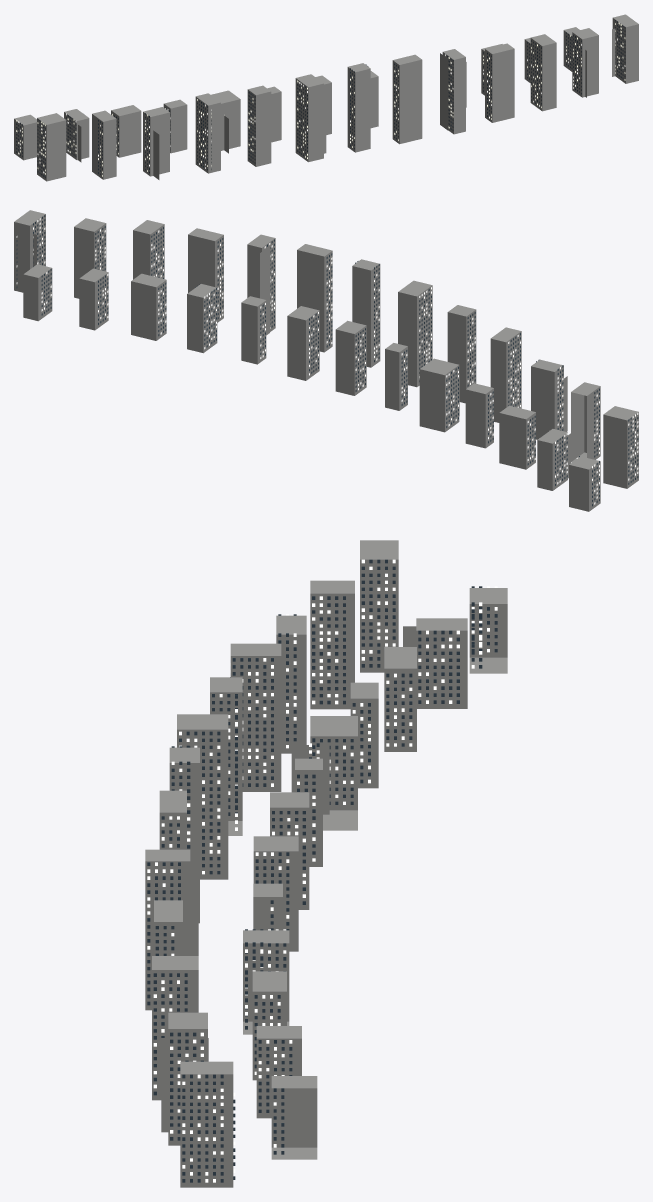
Rendered from city_skyline.glb.
3 renders of one model, top to bottom at view 1: azimuth 30°, elevation 25°; view 2: azimuth 150°, elevation 25°; view 3: azimuth 270°, elevation 25°, orthographic. The views are drawn at different scales.
Parts seen in each view (by area): view 1: Skyline_M_City_concrete, Skyline_M_City_glassdark, Skyline_M_City_glasslit, Skyline_M_City_glasslit2; view 2: Skyline_M_City_concrete, Skyline_M_City_glassdark, Skyline_M_City_glasslit, Skyline_M_City_glasslit2; view 3: Skyline_M_City_concrete, Skyline_M_City_glassdark, Skyline_M_City_glasslit, Skyline_M_City_glasslit2.
Boxes of the visible parts, <box> form: Skyline_M_City_concrete: <box>14,14,638,181</box>; Skyline_M_City_glassdark: <box>16,20,625,178</box>; Skyline_M_City_glasslit: <box>16,22,625,176</box>; Skyline_M_City_glasslit2: <box>18,38,625,173</box>; Skyline_M_City_concrete: <box>14,210,638,511</box>; Skyline_M_City_glassdark: <box>16,215,638,506</box>; Skyline_M_City_glasslit: <box>33,218,638,504</box>; Skyline_M_City_glasslit2: <box>16,230,638,494</box>; Skyline_M_City_concrete: <box>145,540,507,1187</box>; Skyline_M_City_glassdark: <box>147,559,497,1182</box>; Skyline_M_City_glasslit: <box>147,559,497,1182</box>; Skyline_M_City_glasslit2: <box>147,573,489,1175</box>.
Size of the model in its own units: 231 by 32.55 by 66.02.
